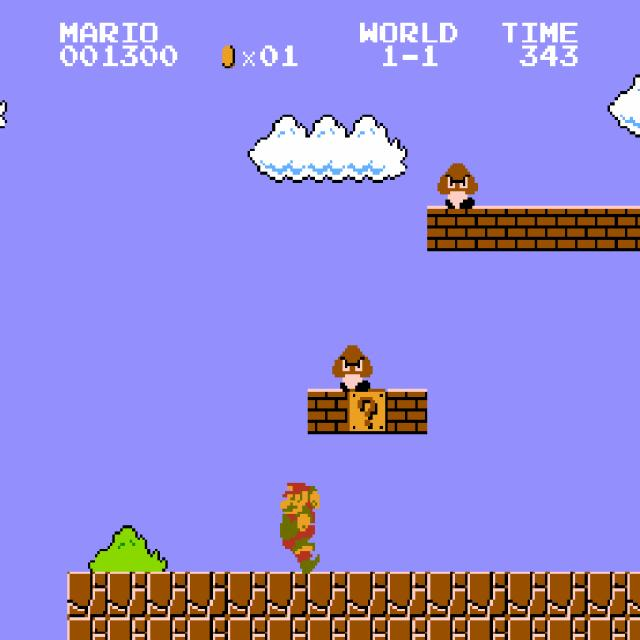big_mario: (277, 480, 320, 574)
brick_block: (307, 389, 348, 434), (387, 389, 428, 434), (427, 206, 468, 251), (467, 206, 508, 251), (507, 206, 548, 251), (547, 206, 588, 251), (587, 206, 628, 251), (627, 206, 640, 251)
goomba: (330, 343, 372, 391), (435, 160, 477, 208)
mystery_block: (347, 389, 388, 434)
undestructible_block: (67, 572, 108, 617), (107, 572, 148, 617), (147, 572, 188, 617), (187, 572, 228, 617), (227, 572, 268, 617), (267, 572, 308, 617), (307, 572, 348, 617), (347, 572, 388, 617), (387, 572, 428, 617), (427, 572, 468, 617), (467, 572, 508, 617), (507, 572, 548, 617), (547, 572, 588, 617), (587, 572, 628, 617), (67, 617, 108, 640), (107, 617, 148, 640), (147, 617, 188, 640), (187, 617, 228, 640), (227, 617, 268, 640), (267, 617, 308, 640), (307, 617, 348, 640), (347, 617, 388, 640), (387, 617, 428, 640), (427, 617, 468, 640), (467, 617, 508, 640), (507, 617, 548, 640), (547, 617, 588, 640), (587, 617, 628, 640), (627, 572, 640, 617), (627, 617, 640, 640)
